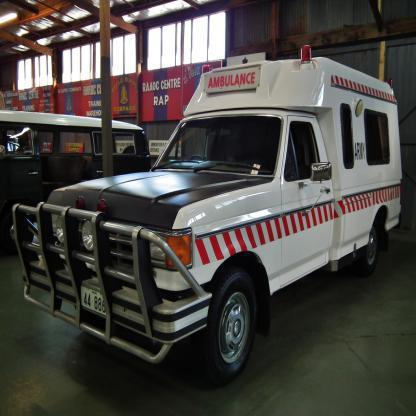Ambulance - v1 Ambulance last generate: (9, 45, 401, 383)
